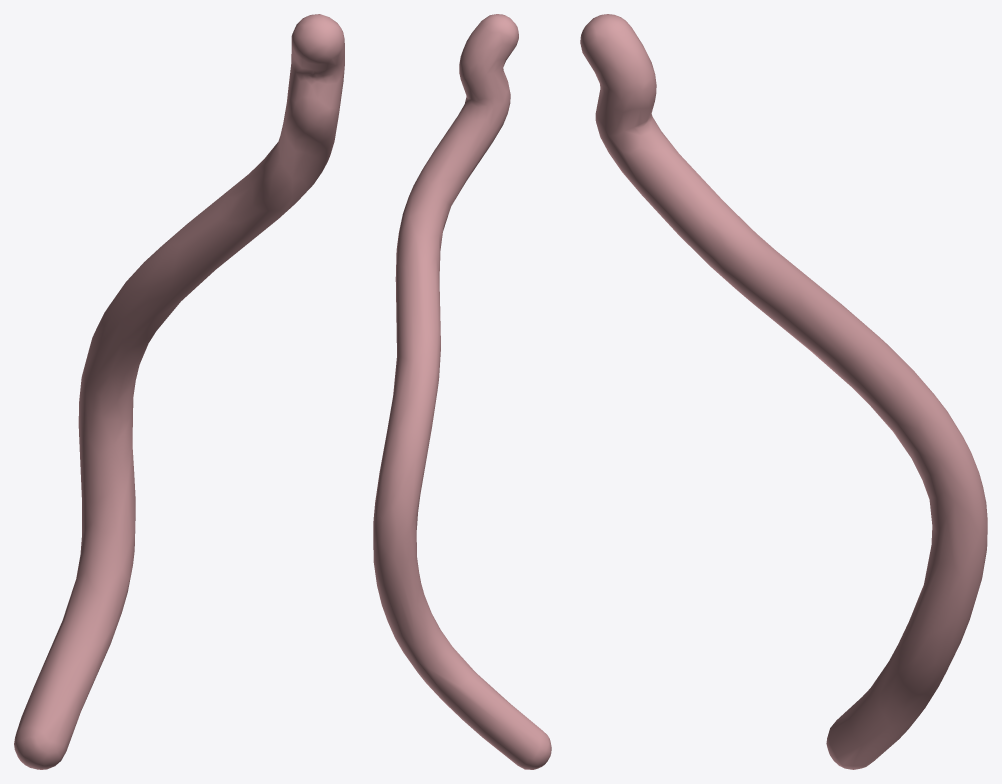
The model's file is fma14668_fj3079.glb.
The picture shows the model from 3 angles, left to right: view 1: azimuth 30°, elevation 25°; view 2: azimuth 150°, elevation 25°; view 3: azimuth 270°, elevation 25°; orthographic projection. The views are drawn at different scales.
Parts seen in each view (by area): view 1: FMA14668_FJ3079; view 2: FMA14668_FJ3079; view 3: FMA14668_FJ3079.
Boxes of the visible parts, bbox=[...] form: FMA14668_FJ3079: bbox=[14, 14, 344, 769]; FMA14668_FJ3079: bbox=[373, 14, 551, 769]; FMA14668_FJ3079: bbox=[580, 14, 987, 769].
Bounding box in the file's own units: 0.0258 × 0.0843 × 0.0375.
